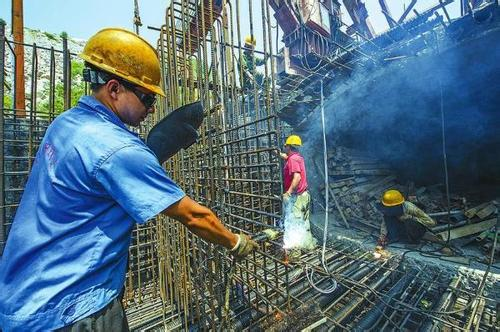helmet: (76, 21, 175, 129), (382, 190, 408, 216), (285, 132, 304, 156), (243, 33, 259, 56)
